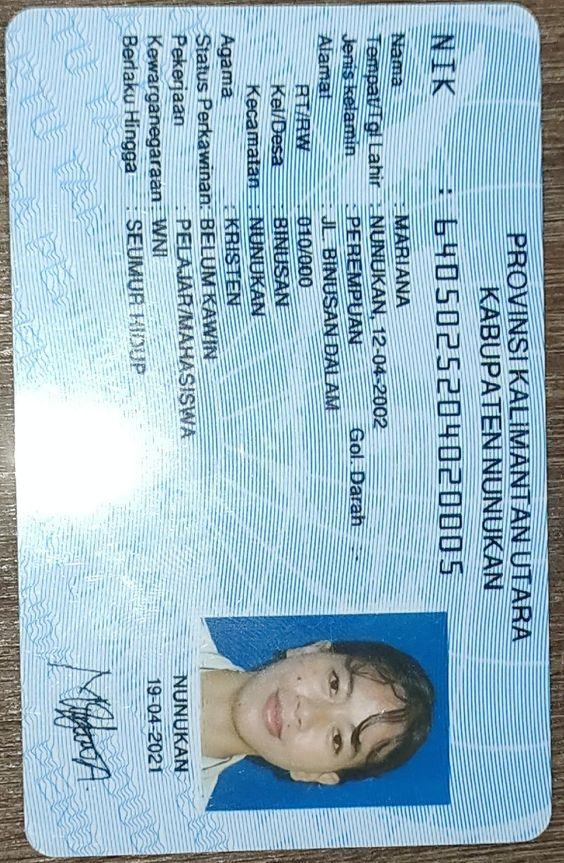ID-card: (6, 6, 542, 840)
